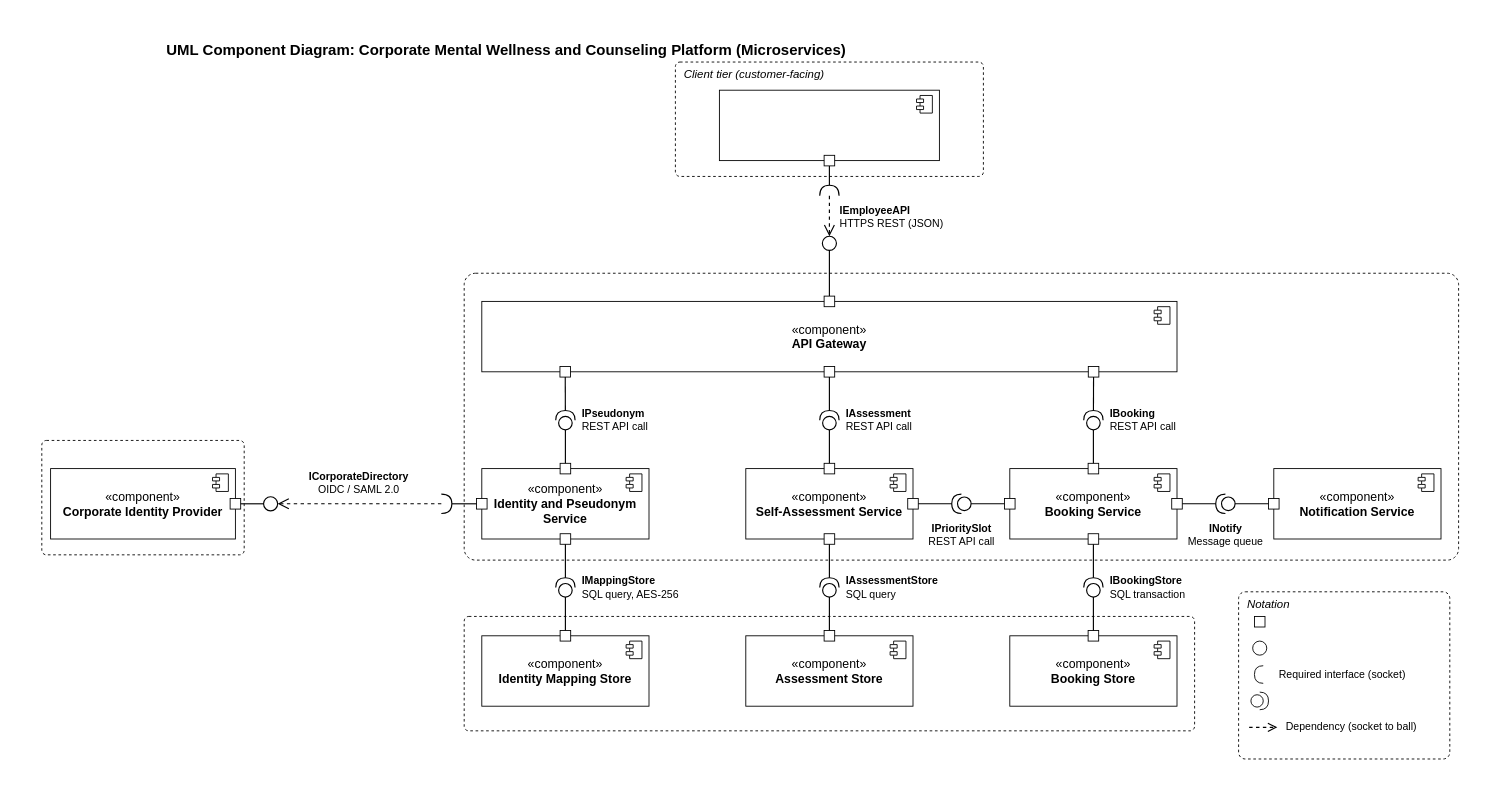
Image size: 1500x800. Some labels were removed from this diagram. The shapes that lost their labels are listed below. From the top down, each one's box as (x1, y1, x2, y2) in pixels, then its label:
(719, 89, 939, 161): «component» Wellness Web Portal
(463, 272, 1459, 560): Platform services
(41, 440, 244, 555): External system
(1254, 616, 1265, 627): Port
(1252, 640, 1267, 655): Provided interface (ball)
(463, 616, 1195, 731): Data storage (one store per service)
(1250, 691, 1269, 710): Assembly connector
